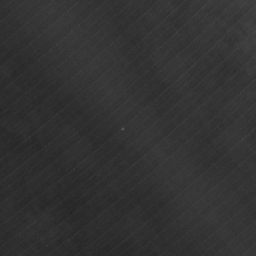Target: (119, 126, 125, 133)
